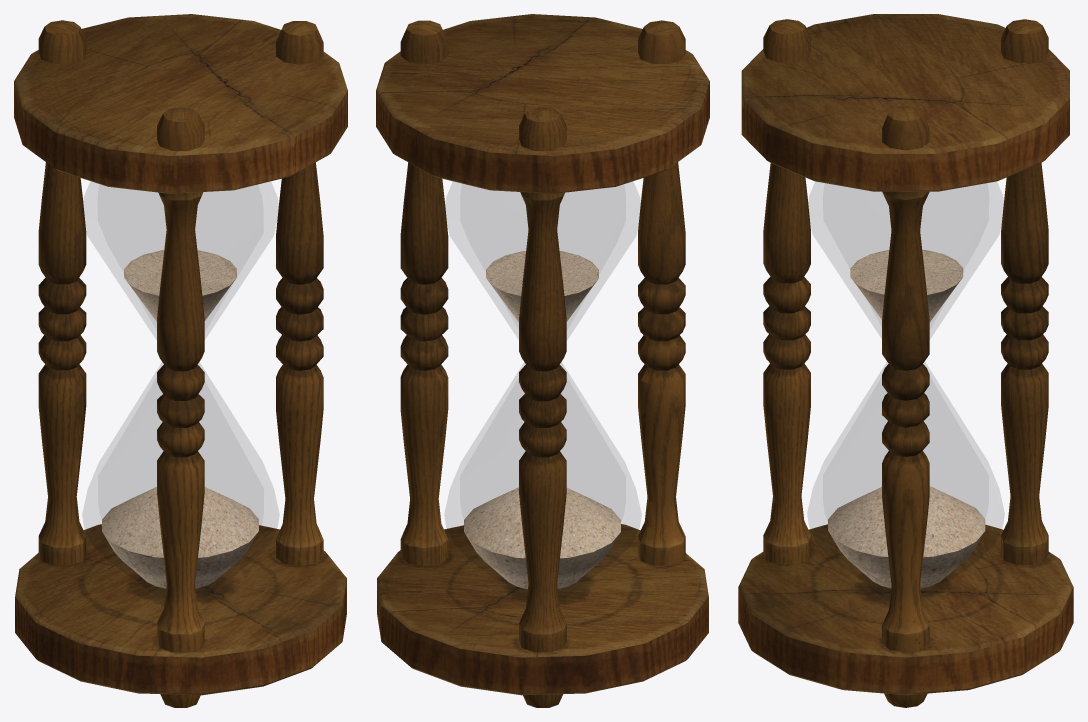
The picture shows the model from 3 angles, left to right: view 1: azimuth 30°, elevation 25°; view 2: azimuth 150°, elevation 25°; view 3: azimuth 270°, elevation 25°; orthographic projection.
Parts seen in each view (by area): view 1: f499f489-a3fe-4ab5-8885-172d72b16c64, 95bac980-cfc1-4b9f-b08f-d598cc179aa4; view 2: f499f489-a3fe-4ab5-8885-172d72b16c64, 95bac980-cfc1-4b9f-b08f-d598cc179aa4; view 3: f499f489-a3fe-4ab5-8885-172d72b16c64, 95bac980-cfc1-4b9f-b08f-d598cc179aa4.
Boxes of the visible parts, x1,y1,x2,y2 form: f499f489-a3fe-4ab5-8885-172d72b16c64: (14, 14, 347, 707); 95bac980-cfc1-4b9f-b08f-d598cc179aa4: (82, 182, 278, 584); f499f489-a3fe-4ab5-8885-172d72b16c64: (376, 14, 709, 707); 95bac980-cfc1-4b9f-b08f-d598cc179aa4: (445, 182, 641, 584); f499f489-a3fe-4ab5-8885-172d72b16c64: (738, 14, 1073, 707); 95bac980-cfc1-4b9f-b08f-d598cc179aa4: (808, 182, 1004, 583).
Bounding box in the file's own units: 62.53 × 122 × 62.53.
Materials: 2 (2 with a texture image).
